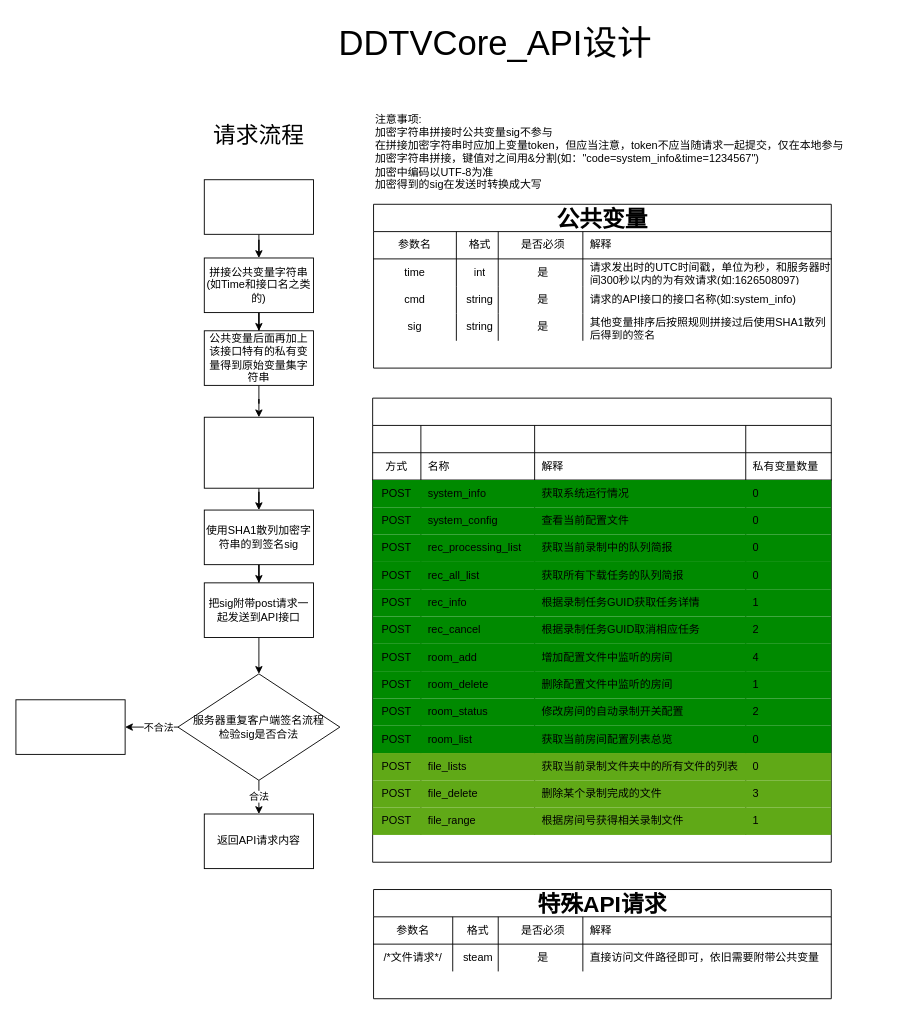
This 910x1015 diagram has some shape labels left out. The shapes that lost their labels are listed below. From the top down, each one's box as (x1, y1, x2, y2) in pixels, then its label:
(203, 179, 313, 234): 开始请求某个接口
(203, 416, 313, 488): 对原始变量集字符串进行排序，排序结果根据变量名称的字母顺序排列，得到加密字符串
(372, 397, 831, 862): 普通API列表
(15, 699, 125, 754): 返回错误信息
